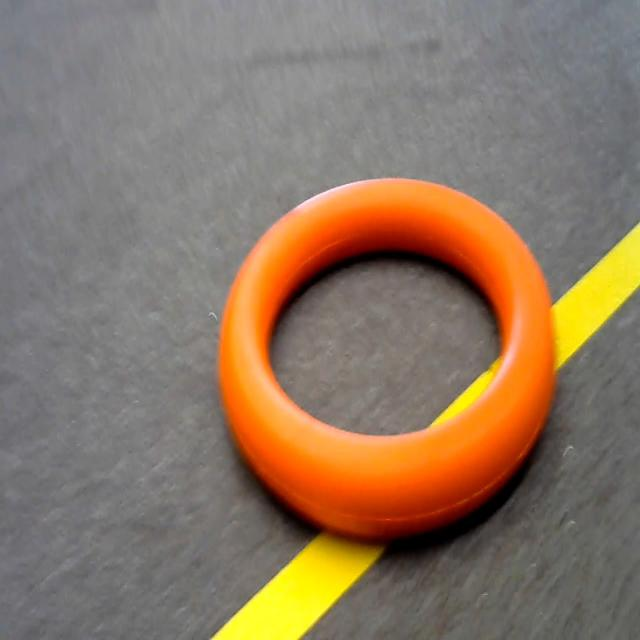note: (209, 150, 585, 546)
